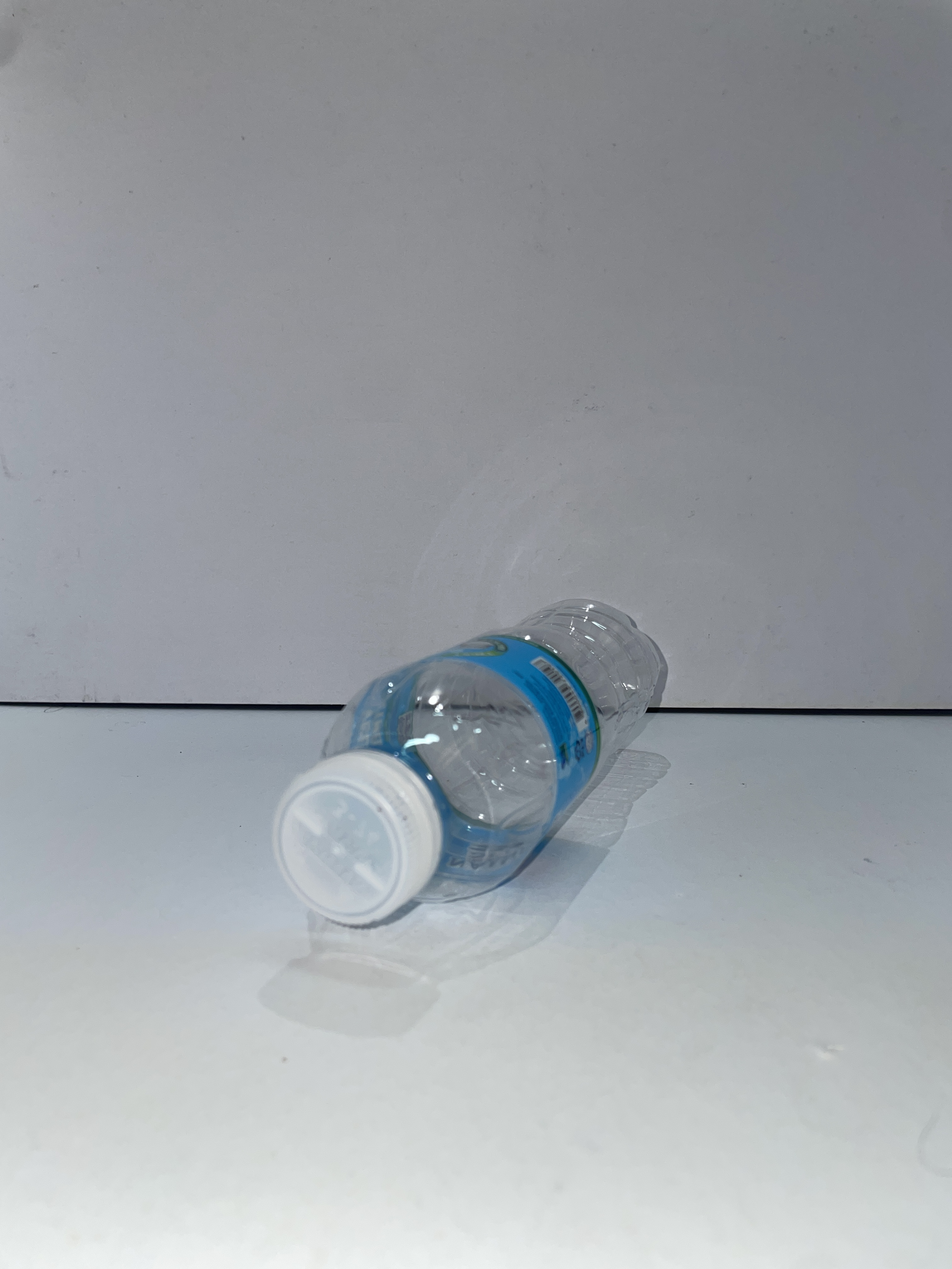natures spring 500ml: (272, 600, 660, 926)
